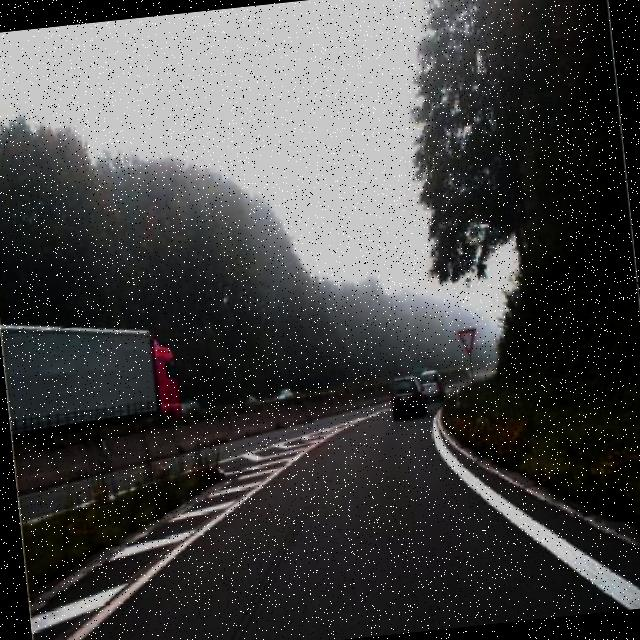Ustap pierwszenstwa: (456, 325, 479, 359)
